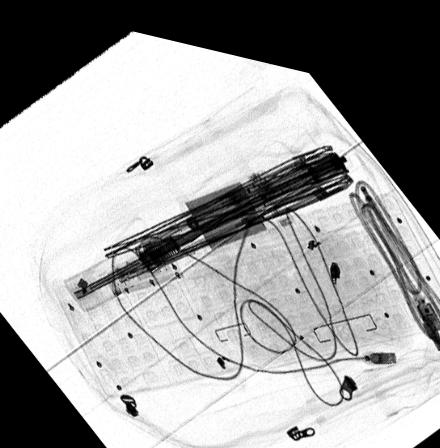Powerbank: (178, 164, 268, 246)
